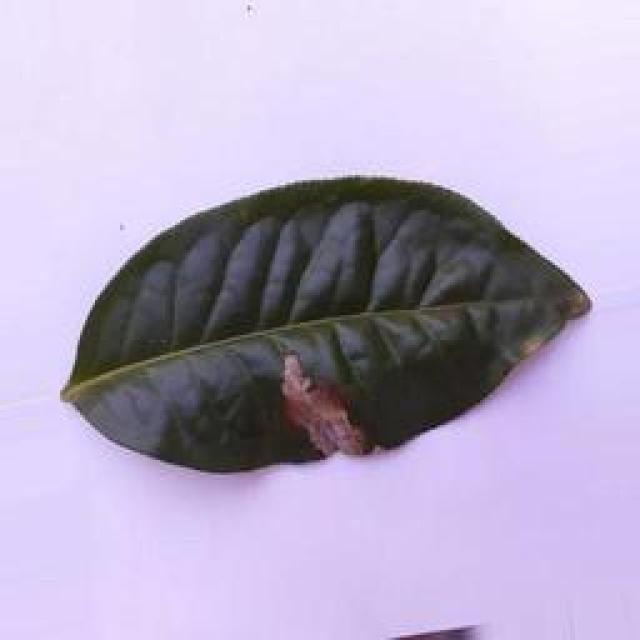Gray Blight: (58, 174, 593, 475)
